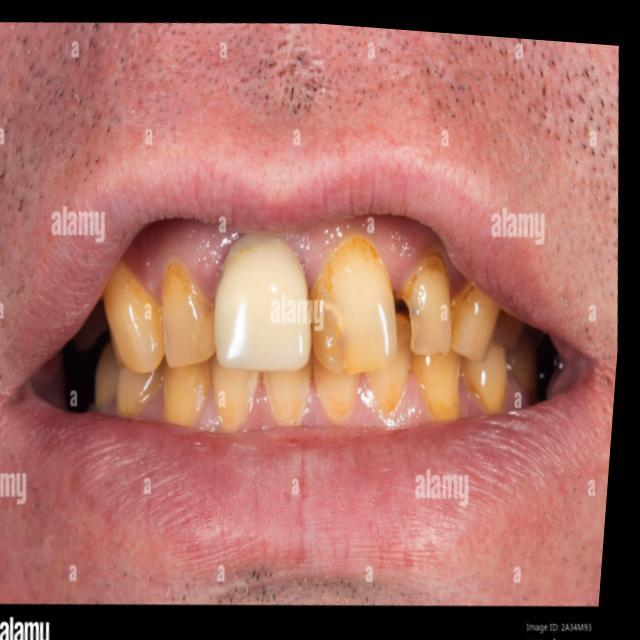ULCI_mdecay: (311, 238, 399, 373)
ULC_healthy: (453, 280, 497, 362)
ULLI_mdecay: (399, 255, 454, 358)
URCI_healthy: (214, 240, 312, 369)
URC_healthy: (102, 260, 164, 371)
URLI_mdecay: (163, 260, 212, 365)
